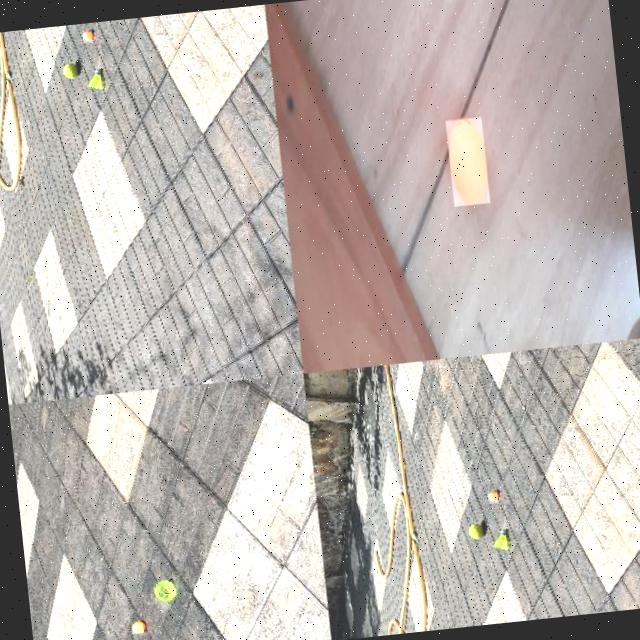ping-pong-ball: (444, 116, 488, 207), (130, 622, 144, 634), (81, 32, 92, 42), (487, 492, 498, 502)
